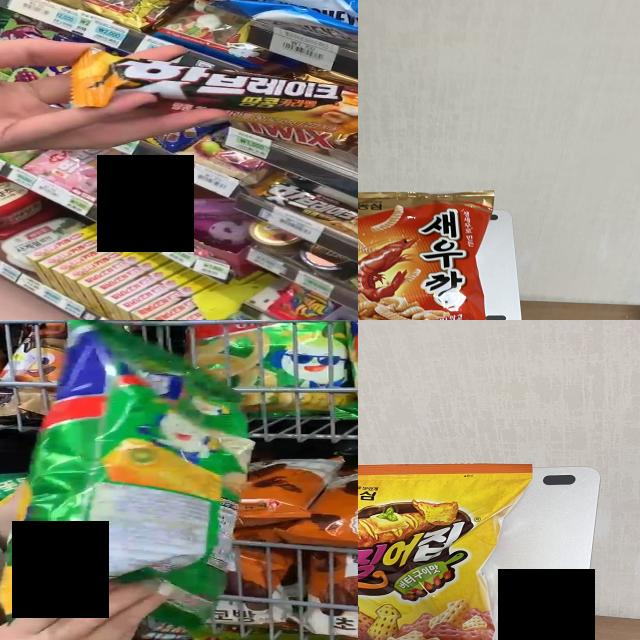hotBreak: (64, 38, 358, 132)
onionRing: (16, 351, 242, 610), (190, 320, 353, 409)
ozingZip: (358, 467, 499, 640)
shrimpGGang: (358, 194, 482, 320)
